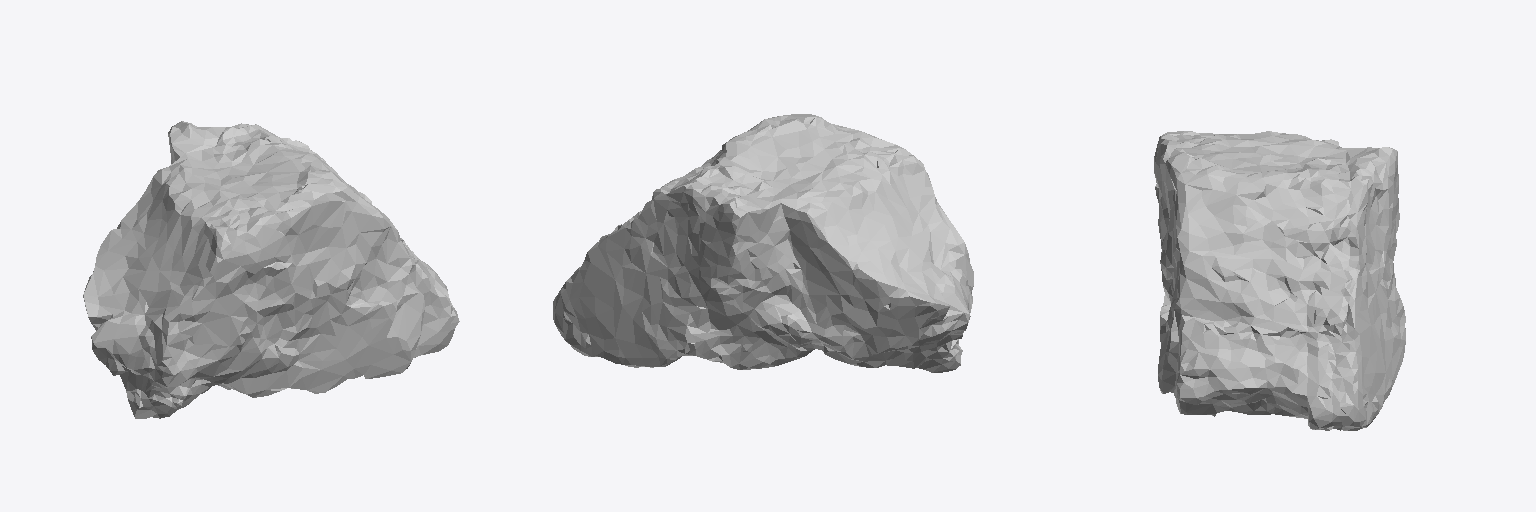
Rendered from Rock.obj.
3 views of the same model, side by side, from view 1: azimuth 30°, elevation 25°; view 2: azimuth 150°, elevation 25°; view 3: azimuth 270°, elevation 25° (orthographic).
Visible parts, largest first — view 1: moss_rock_14.001_moss_rock_14.002; view 2: moss_rock_14.001_moss_rock_14.002; view 3: moss_rock_14.001_moss_rock_14.002.
Boxes of the visible parts, x1=… form: moss_rock_14.001_moss_rock_14.002: x1=83, y1=121, x2=459, y2=418; moss_rock_14.001_moss_rock_14.002: x1=553, y1=114, x2=973, y2=372; moss_rock_14.001_moss_rock_14.002: x1=1154, y1=131, x2=1405, y2=430.
Size of the model in its own units: 2.09 by 1.14 by 1.25.